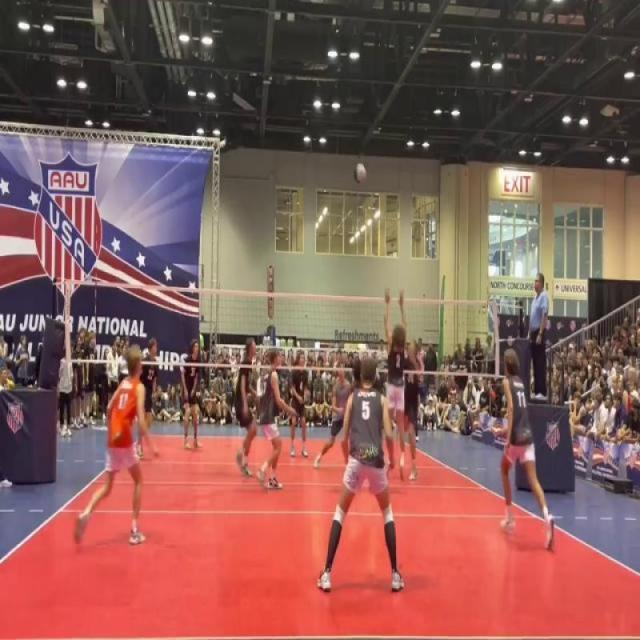volleyball: (352, 161, 368, 187)
